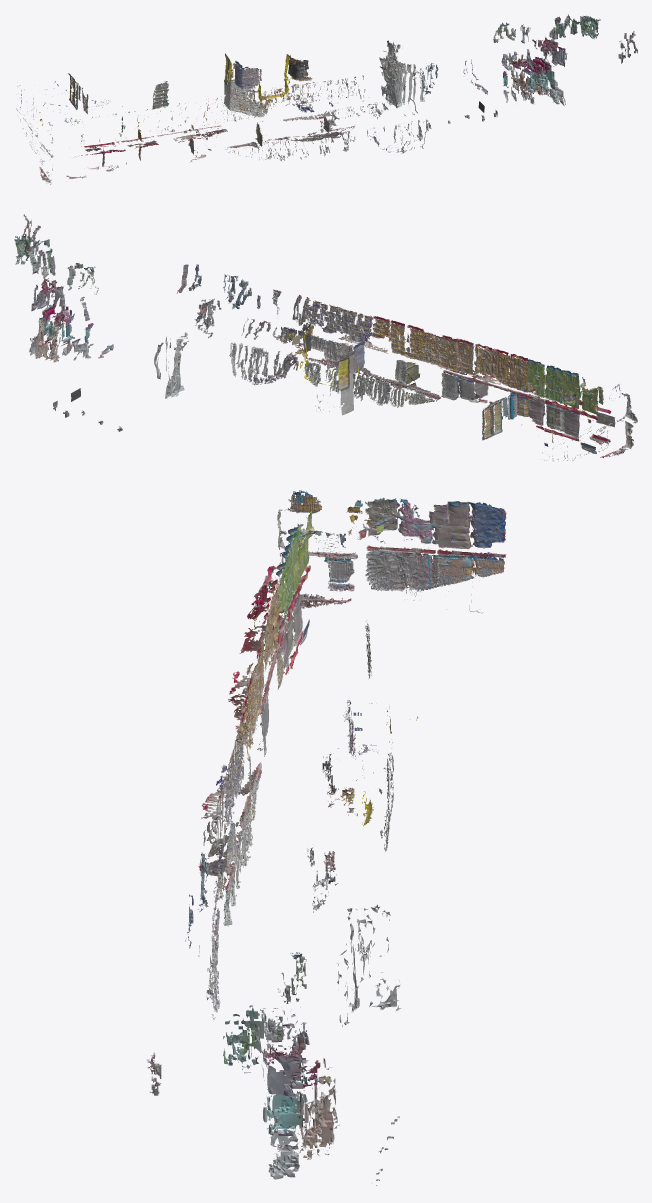
Rendered from surfaces-0.glb.
3 views of the same model, one above another, from view 1: azimuth 30°, elevation 25°; view 2: azimuth 150°, elevation 25°; view 3: azimuth 270°, elevation 25° (orthographic). The views are drawn at different scales.
Parts seen in each view (by area): view 1: obj-0-1088, obj-0-1078, obj-0-931, obj-0-57, obj-0-1054, obj-0-760, obj-0-758, obj-0-761, obj-0-196, obj-0-900, obj-0-885, obj-0-1071 (+4 smaller); view 2: obj-0-735, obj-0-57, obj-0-1088, obj-0-1046, obj-0-803, obj-0-931, obj-0-314, obj-0-754, obj-0-660, obj-0-148, obj-0-1078, obj-0-1071 (+13 smaller); view 3: obj-0-39, obj-0-57, obj-0-1014, obj-0-931, obj-0-735, obj-0-761, obj-0-1088, obj-0-760, obj-0-1054, obj-0-758.
Boxes of the visible parts, x1,y1,x2,y2 form: obj-0-1088: (379, 57, 427, 108); obj-0-1078: (224, 53, 267, 117); obj-0-931: (501, 44, 567, 70); obj-0-57: (121, 111, 332, 148); obj-0-1054: (556, 15, 600, 39); obj-0-760: (503, 69, 557, 93); obj-0-758: (503, 83, 565, 105); obj-0-761: (509, 60, 546, 95); obj-0-196: (234, 63, 258, 87); obj-0-900: (509, 57, 550, 74); obj-0-885: (493, 22, 530, 43); obj-0-1071: (262, 131, 341, 154); obj-0-735: (474, 345, 581, 403); obj-0-57: (338, 334, 545, 403); obj-0-1088: (154, 332, 188, 398); obj-0-1046: (409, 329, 471, 373); obj-0-803: (236, 343, 298, 382); obj-0-931: (31, 285, 89, 320); obj-0-314: (229, 342, 276, 384); obj-0-754: (272, 289, 373, 338); obj-0-660: (482, 401, 502, 440); obj-0-148: (443, 375, 488, 400); obj-0-1078: (315, 350, 355, 415); obj-0-1071: (327, 360, 406, 395); obj-0-39: (365, 497, 503, 590); obj-0-57: (201, 620, 287, 819); obj-0-1014: (386, 553, 504, 590); obj-0-931: (261, 1021, 309, 1104); obj-0-735: (263, 530, 299, 665); obj-0-761: (297, 1075, 339, 1158); obj-0-1088: (337, 904, 400, 1027); obj-0-760: (263, 1052, 308, 1137); obj-0-1054: (223, 1005, 265, 1073); obj-0-758: (268, 1091, 307, 1179).
Bounding box in the file's own units: 48.95 × 10.46 × 13.62.
